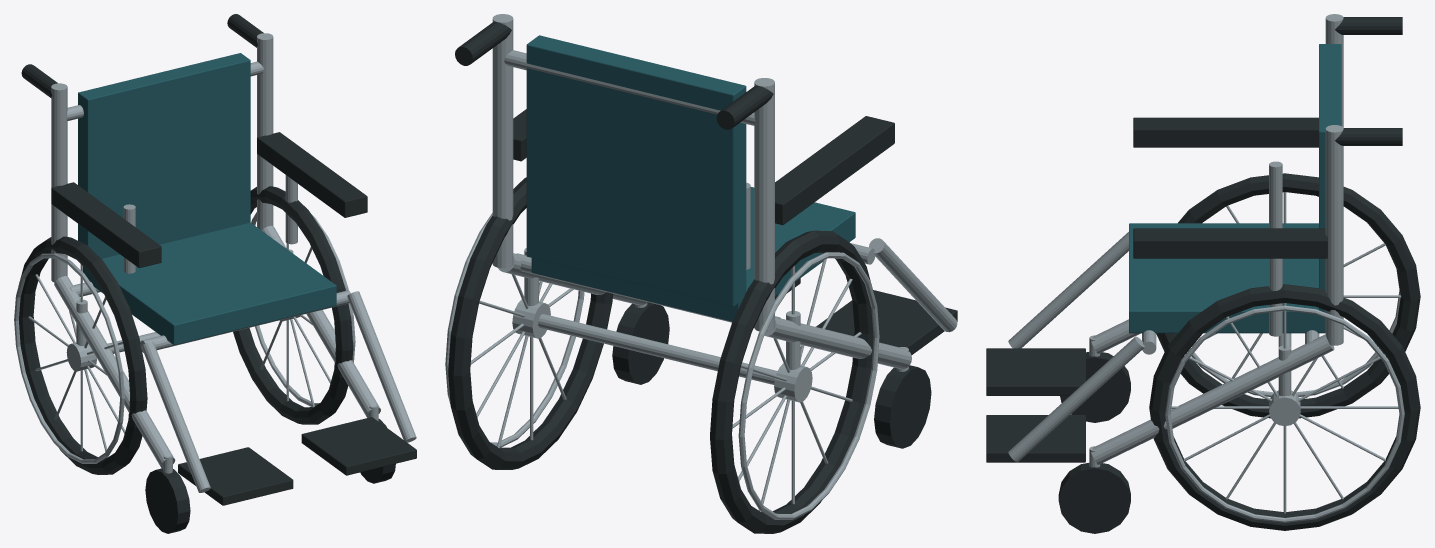
The model's file is source-edit.glb.
The picture shows the model from 3 angles, left to right: view 1: azimuth 30°, elevation 25°; view 2: azimuth 150°, elevation 25°; view 3: azimuth 270°, elevation 25°; orthographic projection. The views are drawn at different scales.
Visible parts, largest first — view 1: Backrest, Seat, Rear_Wheel.001, Rear_Wheel, Footplate.001, Armrest, Armrest.001, Footplate, Frame, Push_Rim.001, Back_Frame, Back_Frame.001 (+11 smaller); view 2: Backrest, Rear_Wheel.001, Rear_Wheel, Seat, Armrest.001, Back_Frame, Back_Frame.001, Push_Rim.001, Front_Caster, Footplate, Rear_Axle, Front_Caster.001 (+10 smaller); view 3: Rear_Wheel, Seat, Rear_Wheel.001, Armrest, Armrest.001, Footplate, Frame.001, Front_Caster.001, Push_Rim, Footplate.001, Back_Frame, Backrest (+11 smaller).
Part boxes in pixels (box(x1,y1,x2,y2)): Backrest: box(78, 53, 250, 258); Seat: box(83, 222, 336, 345); Rear_Wheel.001: box(19, 236, 147, 474); Rear_Wheel: box(233, 186, 353, 424); Footplate.001: box(301, 417, 416, 475); Armrest: box(257, 132, 367, 217); Armrest.001: box(51, 182, 161, 267); Footplate: box(178, 447, 293, 505); Frame: box(54, 276, 175, 468); Push_Rim.001: box(14, 253, 124, 463); Back_Frame: box(257, 33, 273, 230); Back_Frame.001: box(51, 83, 67, 282); Backrest: box(526, 35, 746, 306); Rear_Wheel.001: box(710, 230, 874, 533); Rear_Wheel: box(448, 177, 612, 469); Seat: box(531, 187, 855, 321); Armrest.001: box(775, 116, 894, 225); Back_Frame: box(492, 14, 513, 268); Back_Frame.001: box(754, 78, 774, 331); Push_Rim.001: box(738, 252, 879, 519); Front_Caster: box(874, 365, 931, 448); Footplate: box(816, 290, 957, 355); Rear_Axle: box(538, 314, 777, 384); Front_Caster.001: box(612, 302, 669, 384); Rear_Wheel: box(1149, 284, 1420, 530); Seat: box(1129, 223, 1325, 333); Rear_Wheel.001: box(1156, 173, 1420, 418); Armrest: box(1133, 228, 1327, 258); Armrest.001: box(1133, 117, 1318, 147); Footplate: box(986, 348, 1085, 395); Frame.001: box(1091, 334, 1334, 464); Front_Caster.001: box(1058, 463, 1130, 533); Push_Rim: box(1165, 305, 1404, 522); Footplate.001: box(986, 415, 1085, 462); Back_Frame: box(1325, 125, 1343, 345); Backrest: box(1319, 44, 1341, 312).
Bounding box in the file's own units: 0.662 × 0.98 × 0.96.
